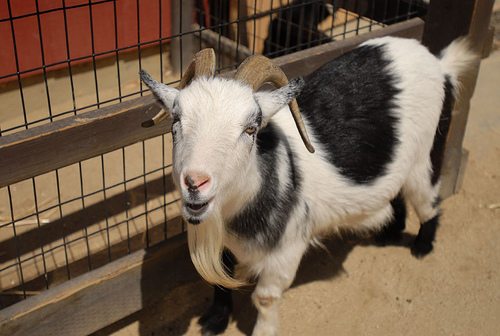goat: (139, 35, 477, 336)
